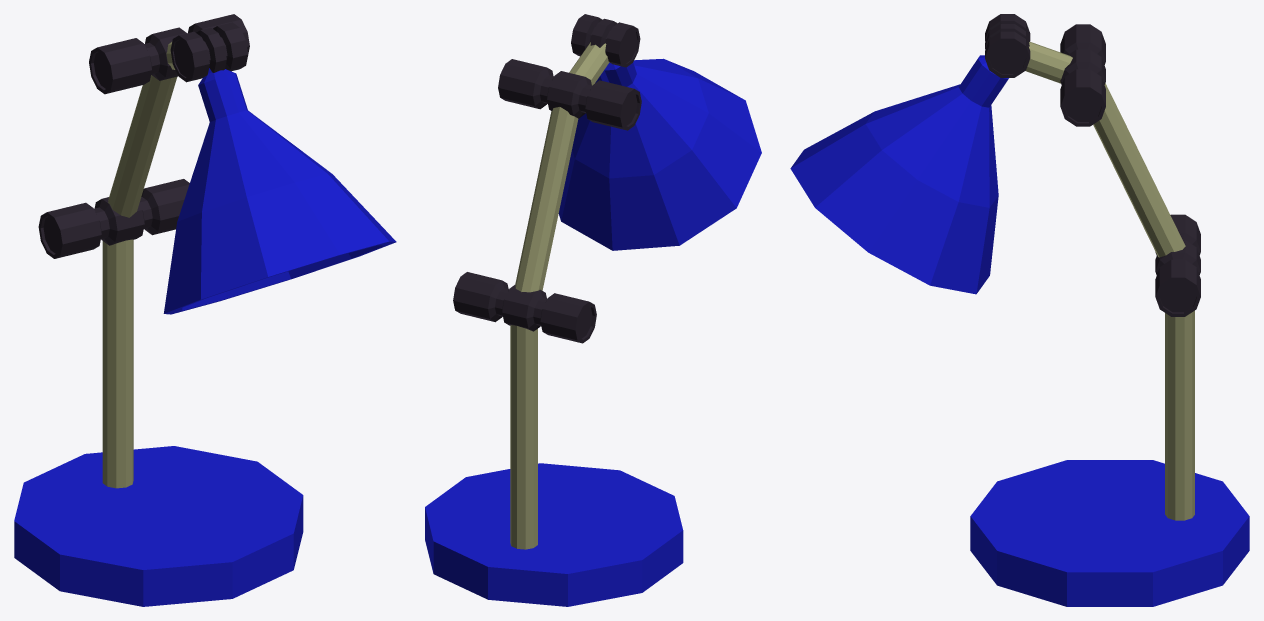
File: lamp.obj
The picture shows the model from 3 angles, left to right: view 1: azimuth 30°, elevation 25°; view 2: azimuth 150°, elevation 25°; view 3: azimuth 270°, elevation 25°; orthographic projection. The views are drawn at different scales.
Parts seen in each view (by area): view 1: Base, Lamp, Lamp.001, Cylinder, Cylinder.001, Lamp.002, Cylinder.002; view 2: Base, Lamp, Lamp.001, Cylinder.001, Cylinder, Lamp.002, Cylinder.002, Lamp.003; view 3: Base, Lamp, Lamp.001, Lamp.002, Cylinder.001, Cylinder, Cylinder.002, Lamp.003.
Part boxes in pixels (x1,y1,x2,y2): Base: (14,446,303,606); Lamp: (163,68,396,314); Lamp.001: (102,239,133,488); Cylinder: (38,179,189,258); Cylinder.001: (89,14,249,94); Lamp.002: (108,75,177,217); Cylinder.002: (170,22,248,82); Base: (425,463,683,606); Lamp: (558,58,761,250); Lamp.001: (510,325,537,549); Cylinder.001: (498,59,641,130); Cylinder: (453,272,596,343); Lamp.002: (515,107,578,292); Cylinder.002: (571,14,640,67); Lamp.003: (569,42,609,85); Base: (970,460,1249,606); Lamp: (790,55,1008,294); Lamp.001: (1165,310,1194,520); Lamp.002: (1093,83,1185,257); Cylinder.001: (1060,24,1105,126); Cylinder: (1155,214,1200,316); Cylinder.002: (985,14,1030,77); Lamp.003: (1025,42,1072,83).
Bounding box in the file's own units: 12.61 × 27.42 × 21.82.
